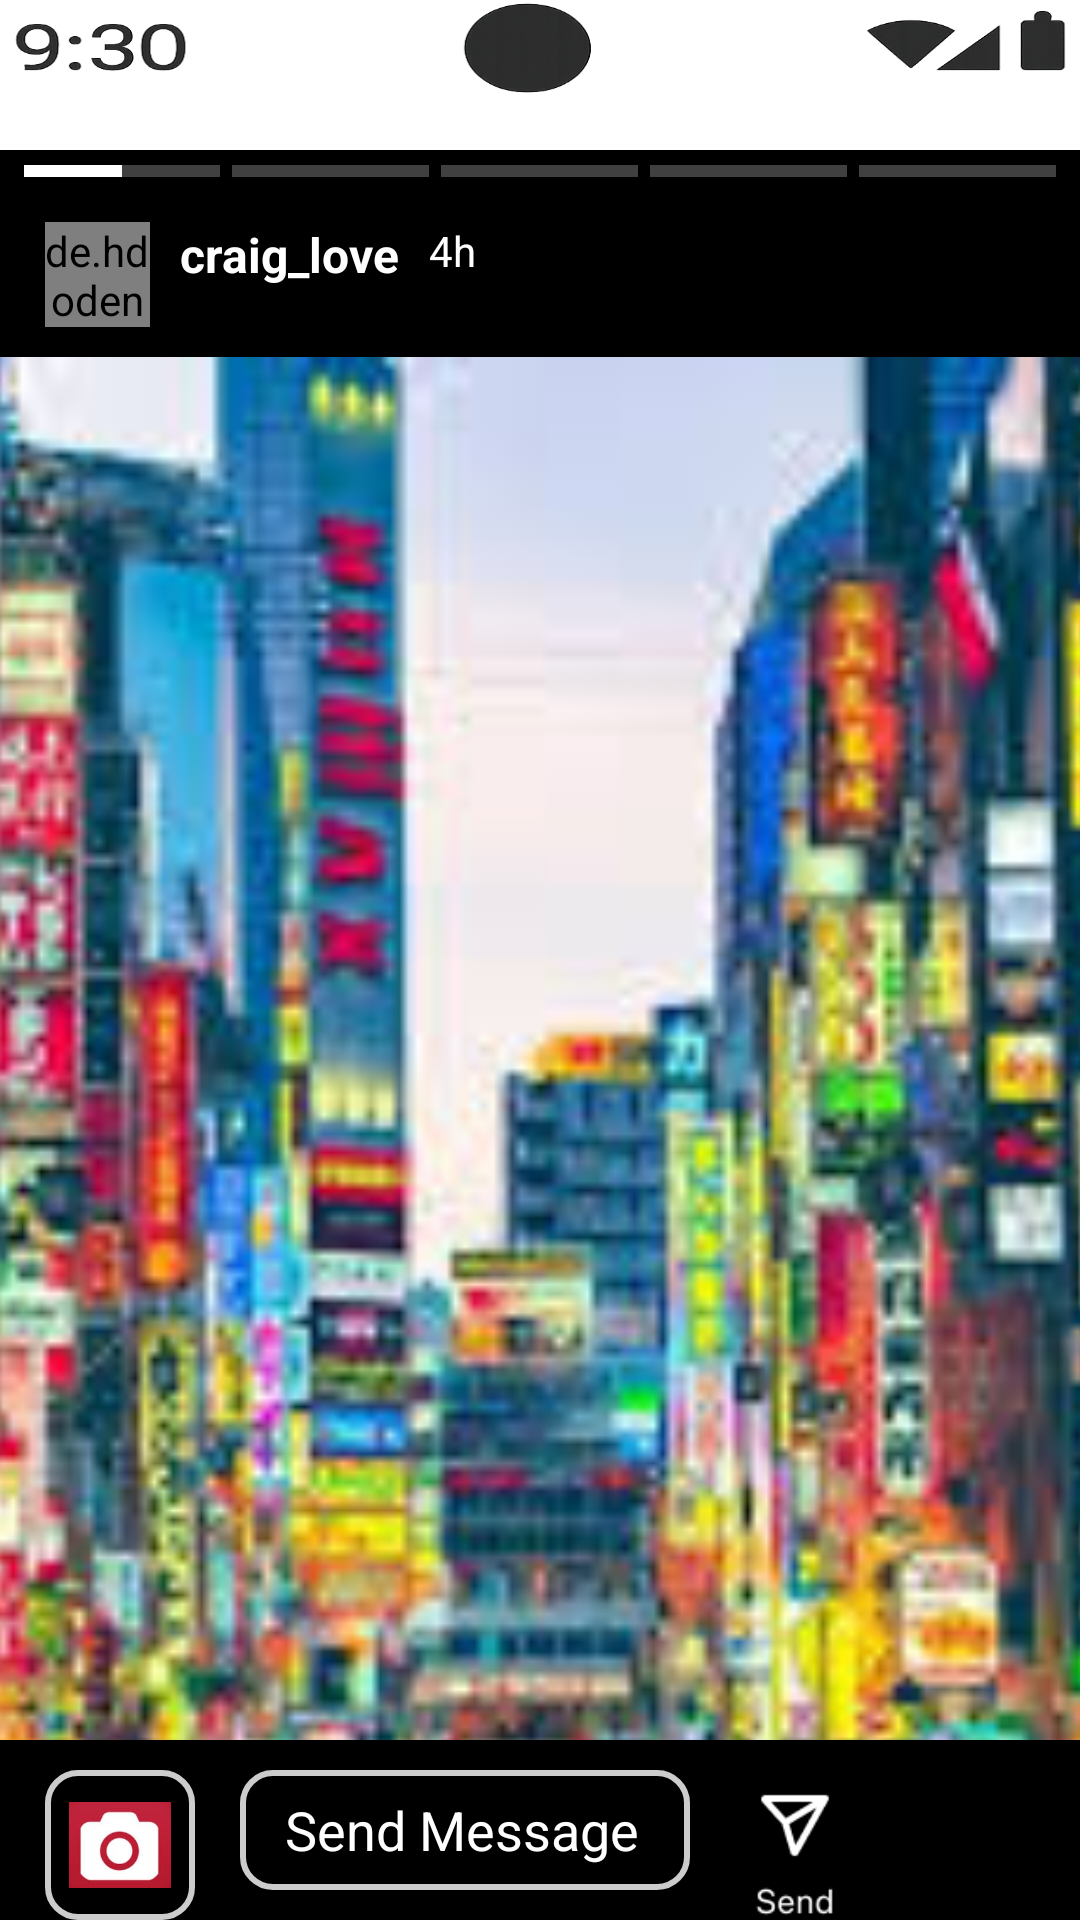

Point at icon controls on the screen. Image size 1080px x 1920px, points as (x=x, y=y).
redcamera: (x=120, y=1845)
